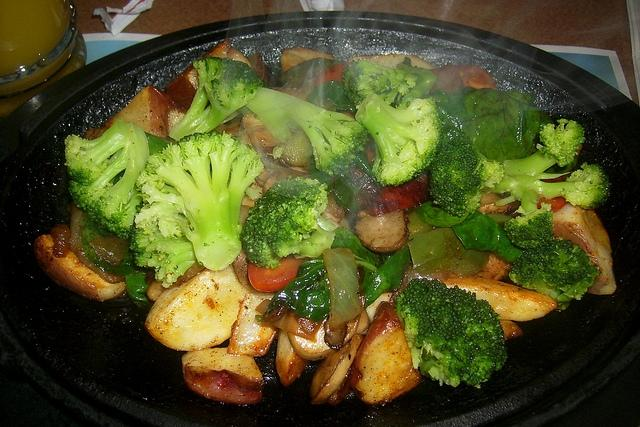bell pepper: (407, 227, 490, 278), (274, 57, 346, 88), (304, 80, 358, 114), (418, 200, 470, 228), (124, 271, 156, 314), (408, 211, 437, 241), (50, 224, 71, 258)
broccoli: (136, 131, 264, 269), (394, 278, 508, 390), (246, 86, 370, 175), (64, 117, 150, 240), (241, 174, 341, 269), (355, 91, 444, 188), (168, 56, 268, 142), (508, 237, 602, 310), (428, 130, 504, 218), (342, 59, 437, 110), (504, 118, 586, 176), (128, 222, 198, 288), (526, 162, 612, 210), (452, 210, 524, 262), (504, 191, 554, 250)
onion: (322, 248, 363, 326), (414, 249, 490, 283), (88, 235, 127, 266), (323, 316, 347, 350)
potato: (145, 264, 252, 352), (350, 301, 421, 402), (34, 235, 128, 302), (552, 204, 616, 296), (166, 39, 250, 108), (444, 274, 558, 322), (182, 347, 264, 405), (310, 334, 364, 404), (227, 290, 281, 357), (106, 86, 172, 137), (354, 208, 408, 252), (287, 317, 337, 361), (276, 329, 310, 388), (348, 53, 437, 70), (240, 114, 282, 148), (474, 252, 513, 281), (430, 66, 463, 96), (314, 62, 349, 88), (366, 292, 394, 324), (163, 105, 188, 134), (282, 48, 335, 60), (279, 52, 307, 73), (500, 320, 524, 341), (147, 279, 166, 301), (355, 309, 369, 334), (479, 192, 501, 207)
